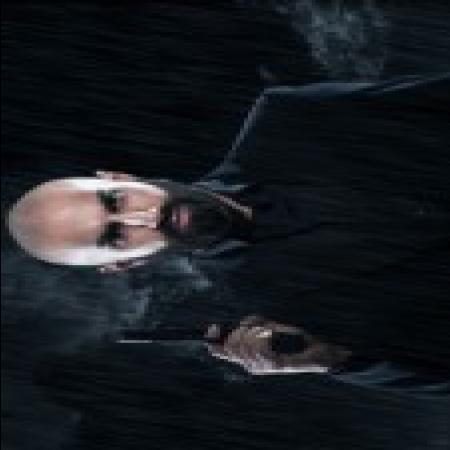Pistol: (92, 303, 314, 367)
